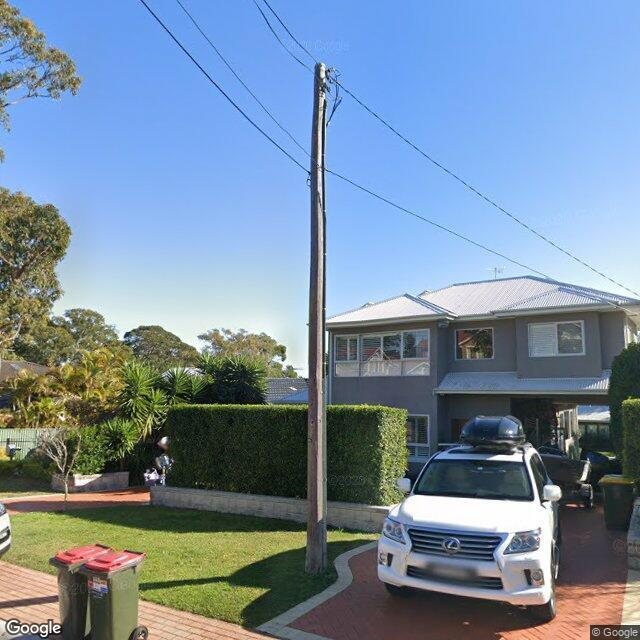timber-pole: (306, 62, 330, 579)
